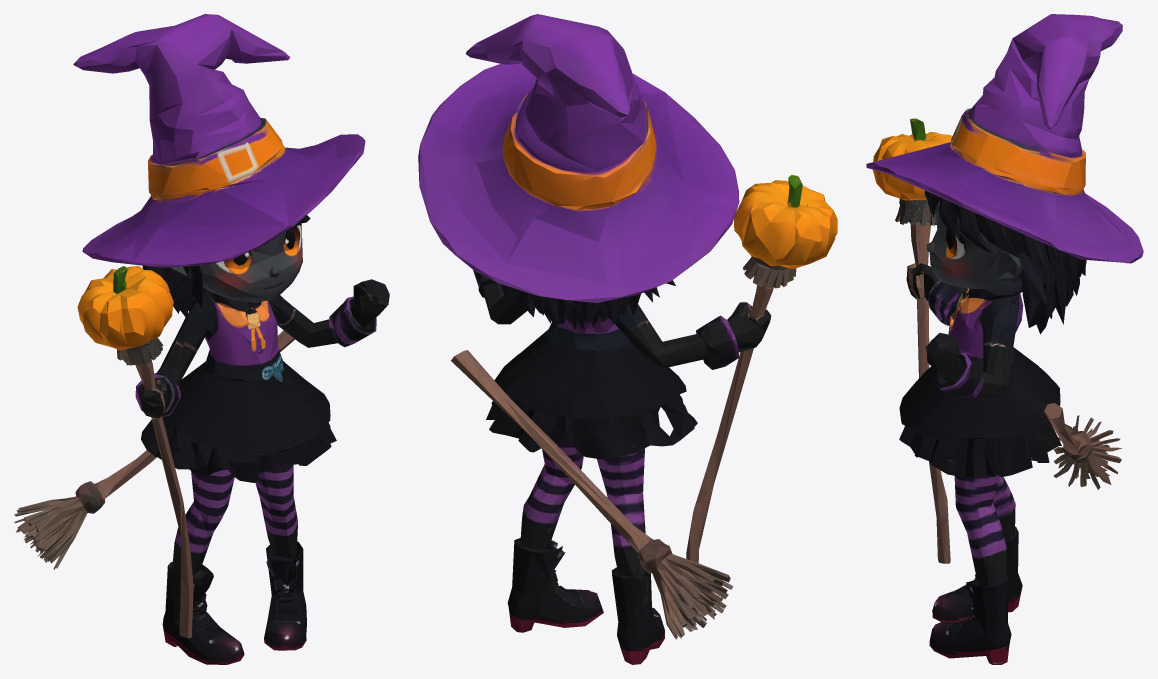
Rendered from hw-witch.glb.
The picture shows the model from 3 angles, left to right: view 1: azimuth 30°, elevation 25°; view 2: azimuth 150°, elevation 25°; view 3: azimuth 270°, elevation 25°; orthographic projection. The views are drawn at different scales.
Size of the model in its own units: 1.05 by 1.9 by 0.7916.
Materials: 1 (1 with a texture image).
